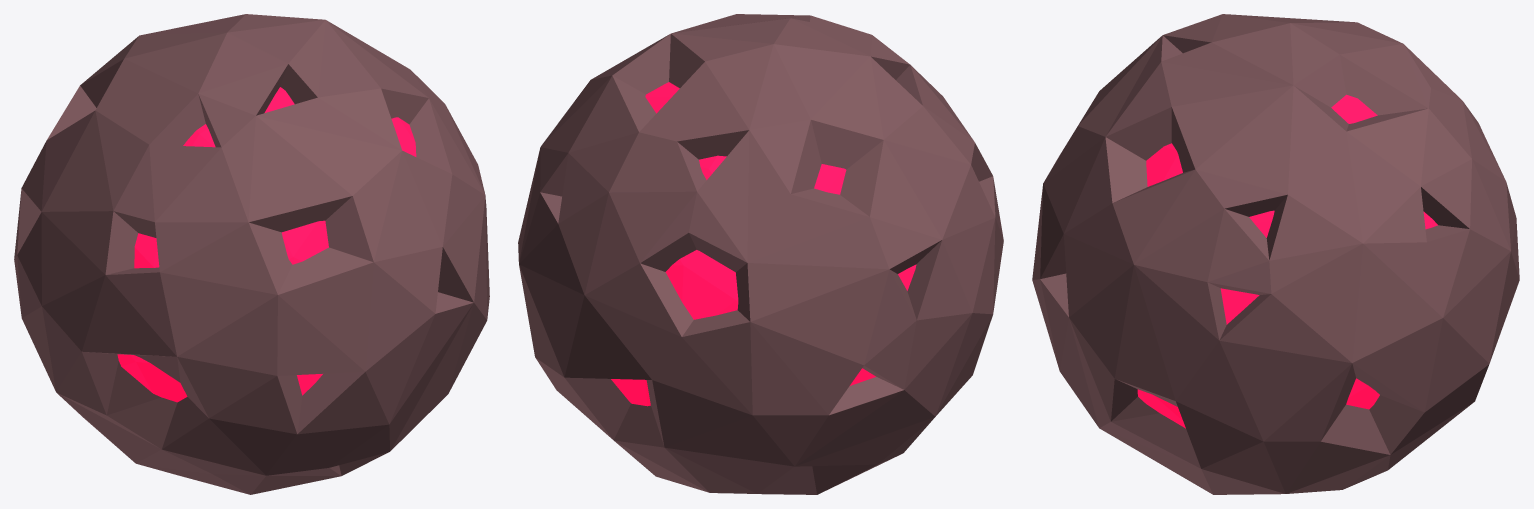
The model's file is lava_planet3.fbx.
3 views of the same model, side by side, from view 1: azimuth 30°, elevation 25°; view 2: azimuth 150°, elevation 25°; view 3: azimuth 270°, elevation 25° (orthographic).
Visible parts, largest first — view 1: lava_planet3; view 2: lava_planet3; view 3: lava_planet3.
Boxes of the visible parts, x1,y1,x2,y2 form: lava_planet3: [14, 14, 489, 494]; lava_planet3: [518, 14, 1003, 494]; lava_planet3: [1032, 14, 1519, 494].
Bounding box in the file's own units: 200 × 201 × 201.
